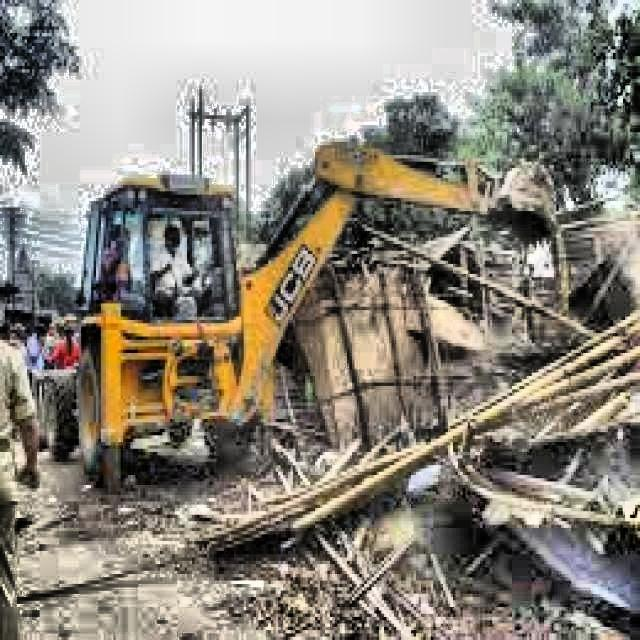bull_dozer/loader/grader: (33, 126, 557, 493)
person: (0, 325, 39, 639), (151, 214, 205, 318), (104, 217, 138, 310), (54, 316, 82, 371), (22, 319, 46, 371)
